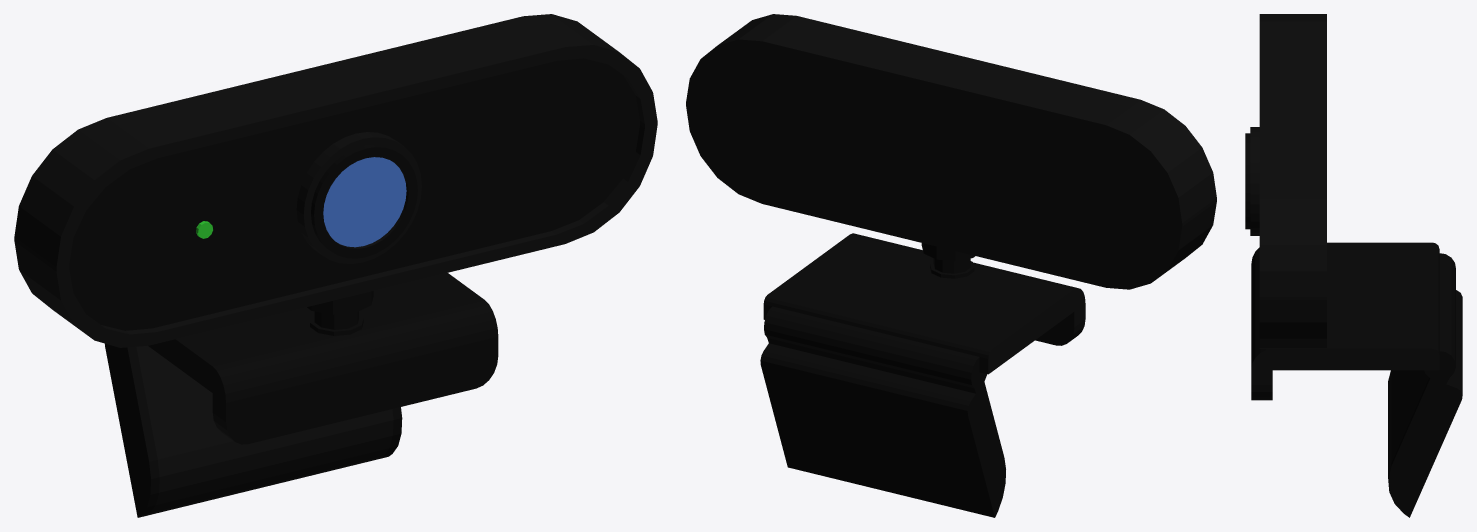
File: webcam.glb
The picture shows the model from 3 angles, left to right: view 1: azimuth 30°, elevation 25°; view 2: azimuth 150°, elevation 25°; view 3: azimuth 270°, elevation 25°; orthographic projection. The views are drawn at different scales.
Visible parts, largest first — view 1: webcam; view 2: webcam; view 3: webcam.
Part boxes in pixels (x1,y1,x2,y2): webcam: (14, 14, 657, 517); webcam: (686, 14, 1216, 517); webcam: (1245, 14, 1462, 517).
Bounding box in the file's own units: 0.0686 × 0.05 × 0.0269.
